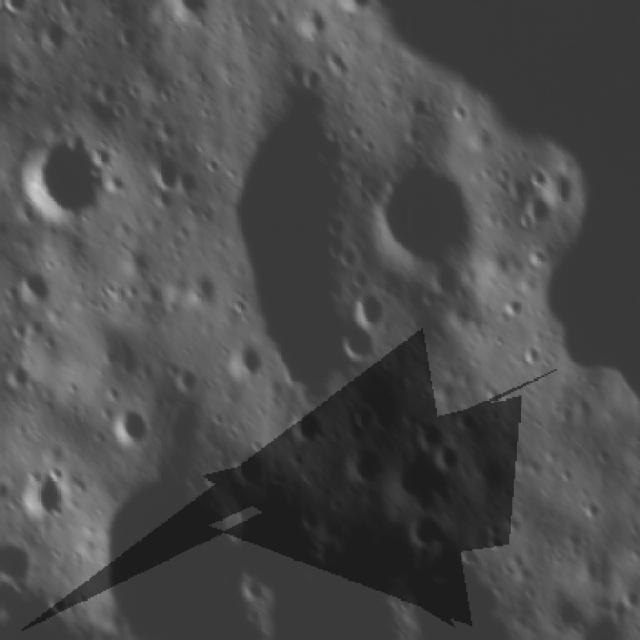crater: (80, 465, 254, 633), (364, 158, 478, 277), (24, 124, 108, 222), (384, 441, 454, 512), (12, 463, 68, 526), (142, 136, 182, 201), (107, 404, 155, 450), (403, 506, 452, 551), (332, 322, 382, 366), (12, 262, 60, 306), (349, 282, 389, 332), (0, 536, 40, 586), (224, 337, 265, 383), (26, 18, 74, 57), (175, 270, 223, 308), (224, 445, 264, 490), (342, 439, 381, 483), (286, 406, 326, 446), (290, 5, 328, 41), (120, 241, 152, 282), (346, 401, 382, 433), (414, 415, 446, 450), (522, 188, 549, 226), (524, 160, 554, 192)
